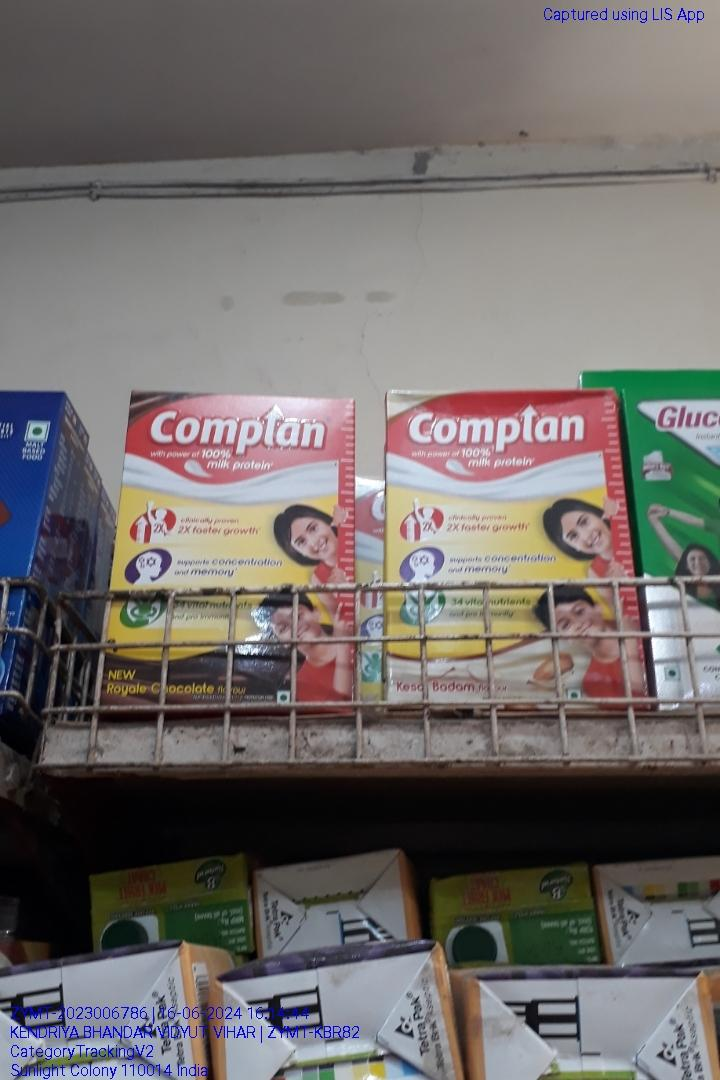COMPLAN_CHOCOLATE_500_GMS_PACK: (113, 377, 359, 713)
COMPLAN_KESAR_BADAM_500_GMS_PACK: (380, 392, 640, 691)
